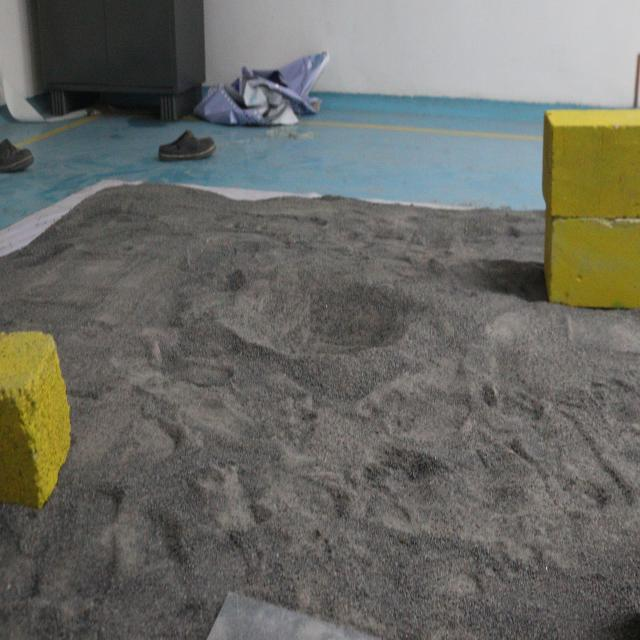box: (540, 101, 640, 331), (0, 314, 71, 520)
crater: (214, 255, 422, 367)
